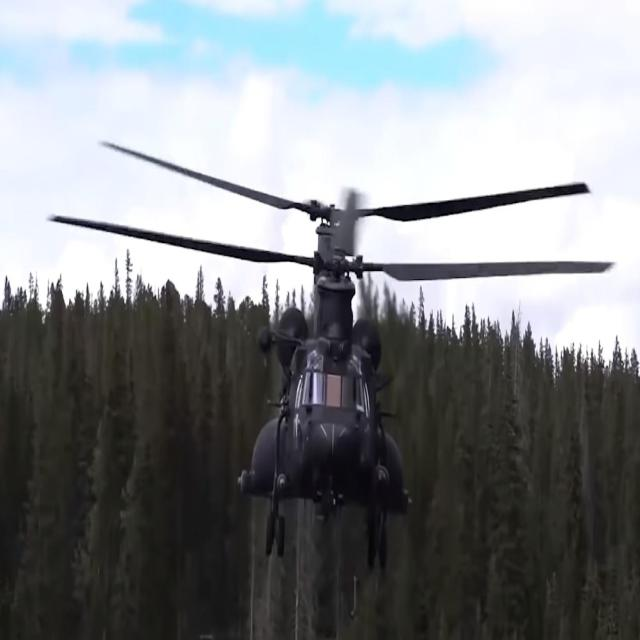Helicopter: (219, 170, 433, 551)
